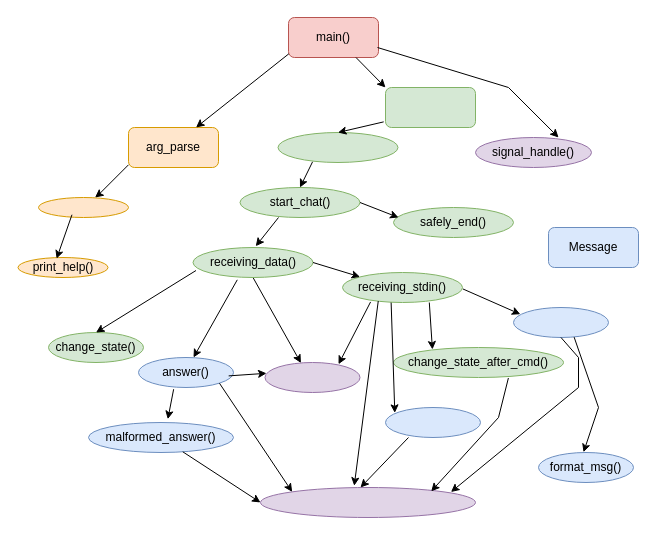
This 656x535 diagram has some shape labels left out. The centre of each missing label's shape, as x and y in pixels:
"CHAT" belongs at point (430, 107).
"decipher()" belongs at point (432, 422).
"delete_new_line_or_carriage()" belongs at point (368, 502).
"msg_check()" belongs at point (560, 322).
"msg_to_upper()" belongs at point (312, 377).
"parse()" belongs at point (83, 207).
"setup_socket()" belongs at point (337, 147).
